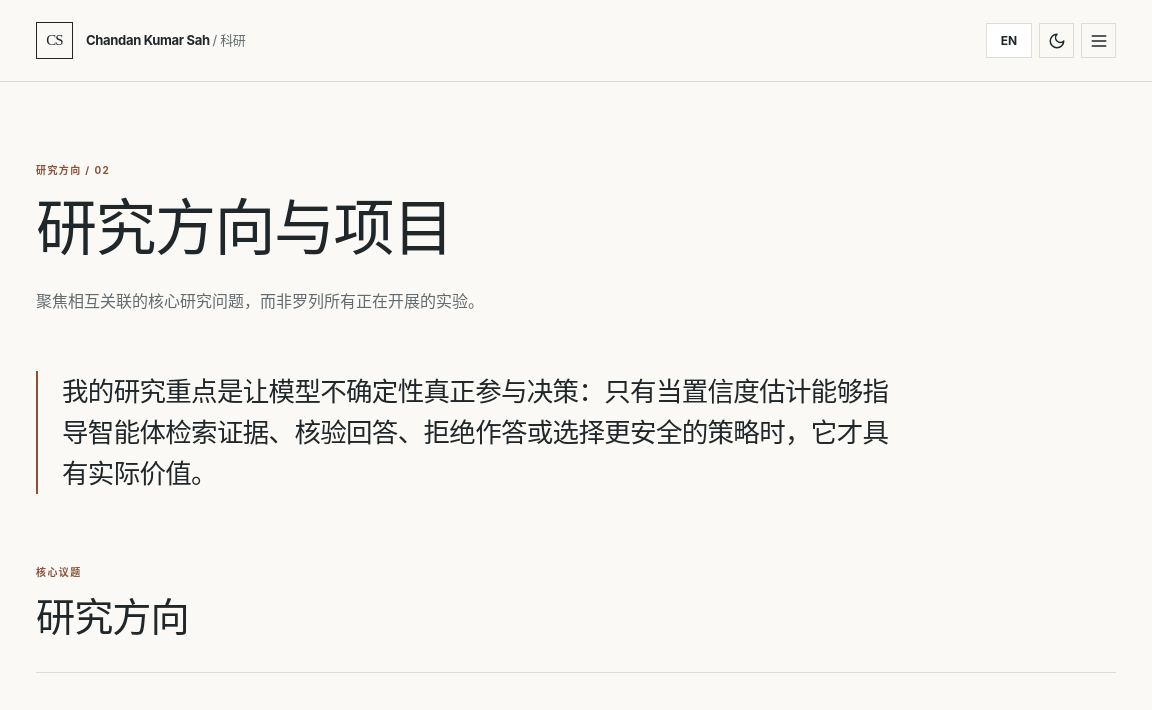
Test: professional Simplified Chinese localization › prioritizes an explicit Mandarin link over English preference and keeps route in share URL
The width and height of the screenshot is (1152, 710).
Expected: the heading "研究方向与项目" is shown, [36,191,453,265]
Click the button with aria-label "切换网站语言为英语": x=1009, y=40 [986,23,1032,58]
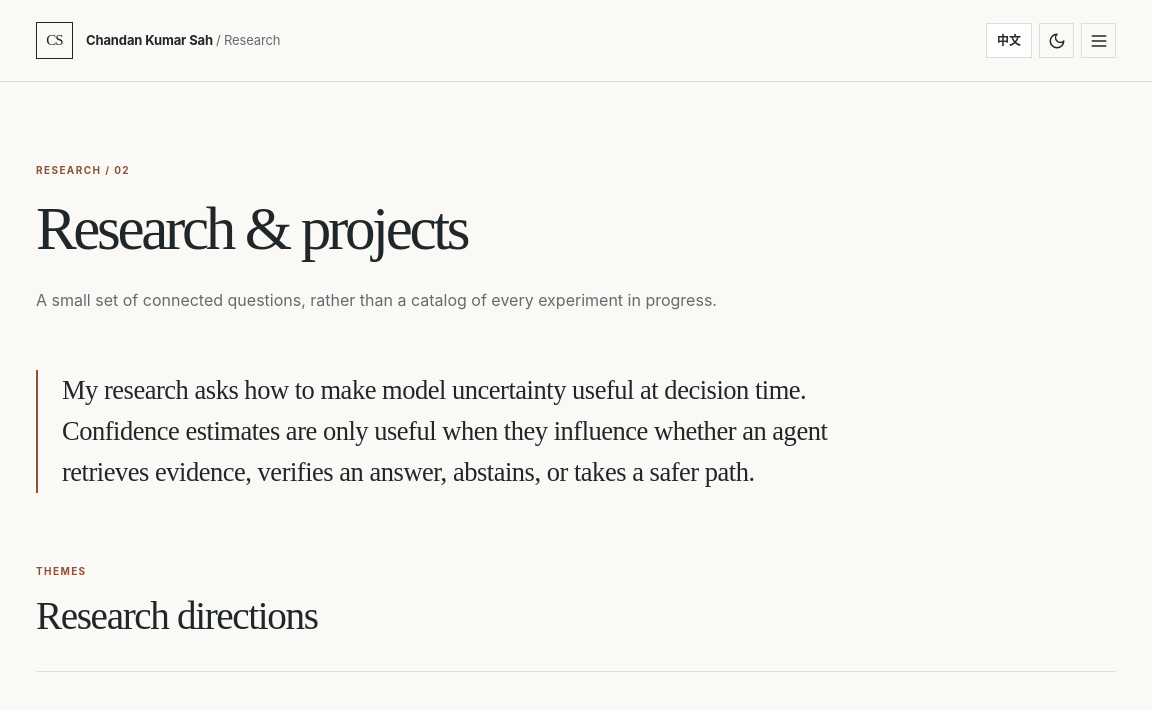
Expected: the heading "Research & projects" is shown, [36,195,467,262]
